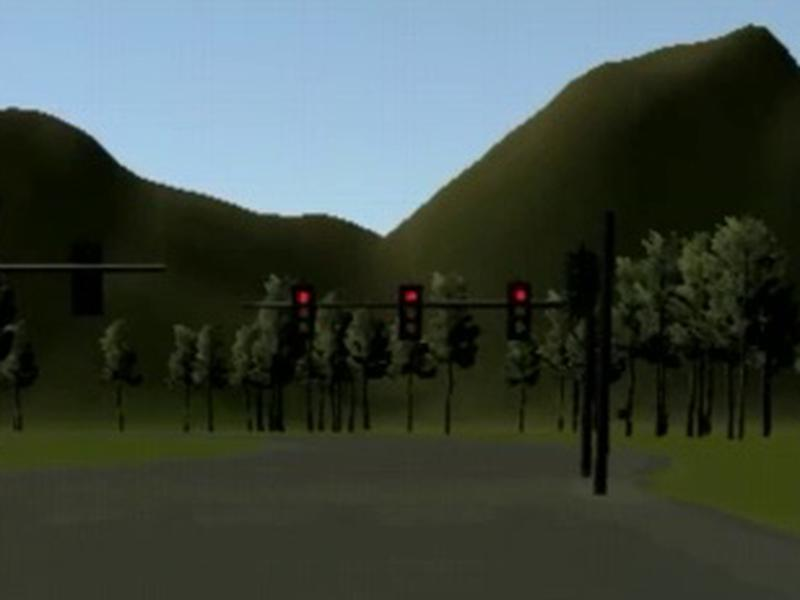Red: (506, 282, 533, 341), (399, 285, 424, 341), (292, 284, 316, 338)
